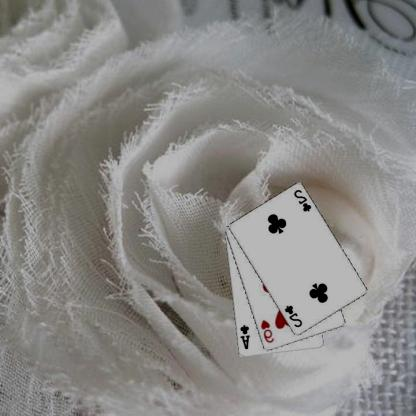2C: (284, 303, 305, 329), (293, 187, 314, 213)
6H: (260, 317, 277, 344)
AC: (239, 323, 253, 351)
